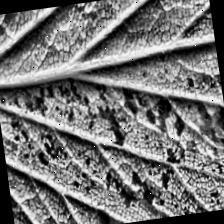Angular Leafspot: (0, 50, 224, 224)
